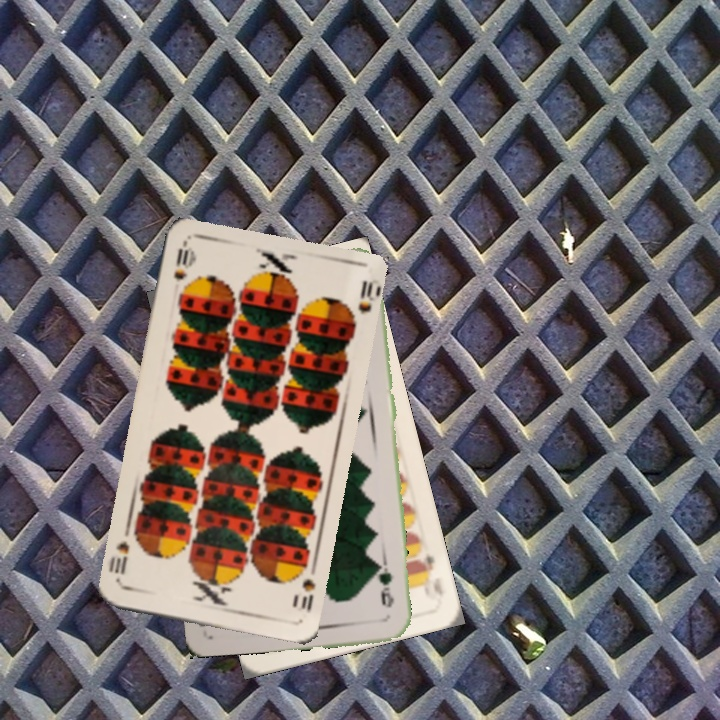E10: (413, 550, 438, 584)
G9: (373, 559, 397, 610)
S10: (294, 560, 319, 614), (169, 241, 195, 283)
